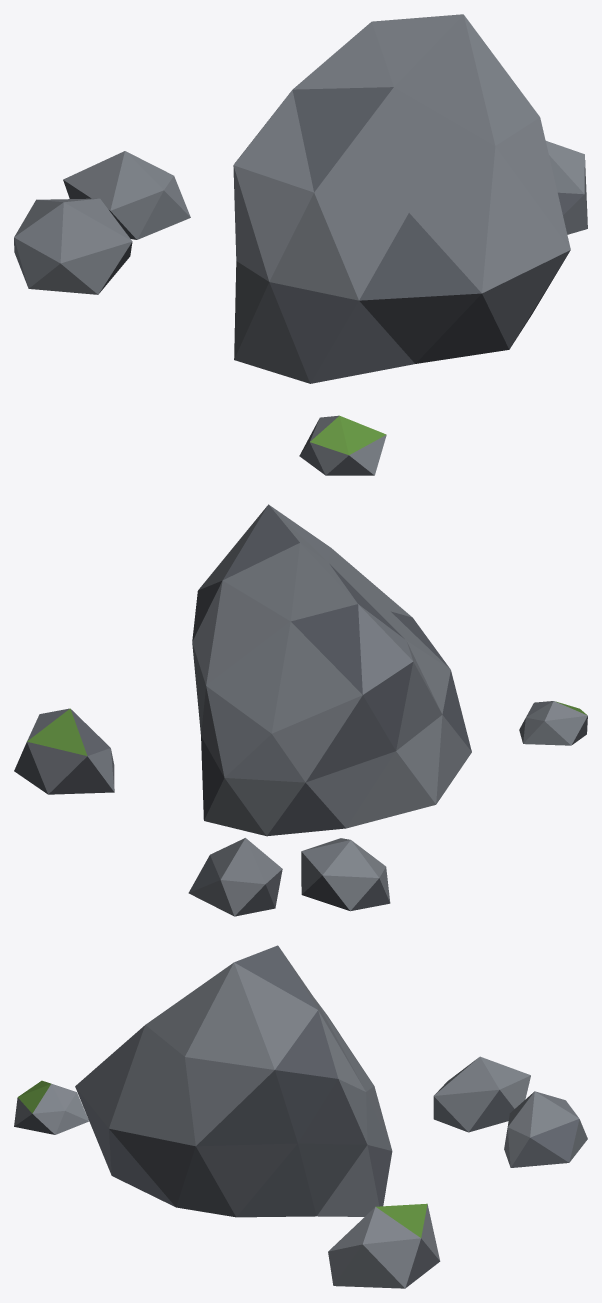
The model's file is rock_02.glb.
3 renders of one model, top to bottom at view 1: azimuth 30°, elevation 25°; view 2: azimuth 150°, elevation 25°; view 3: azimuth 270°, elevation 25°, orthographic. The views are drawn at different scales.
Visible parts, largest first — view 1: rock_02; view 2: rock_02; view 3: rock_02.
Part boxes in pixels (x1,y1,x2,y2): rock_02: (14, 14, 587, 475); rock_02: (14, 504, 587, 916); rock_02: (14, 945, 587, 1288).
Size of the model in its own units: 2.4 by 1.46 by 2.92.
